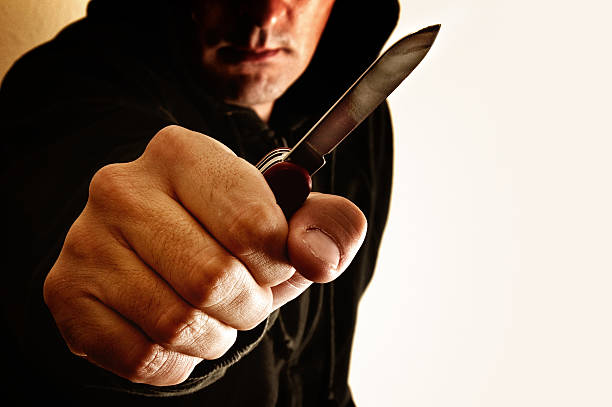knife: (258, 23, 442, 217)
